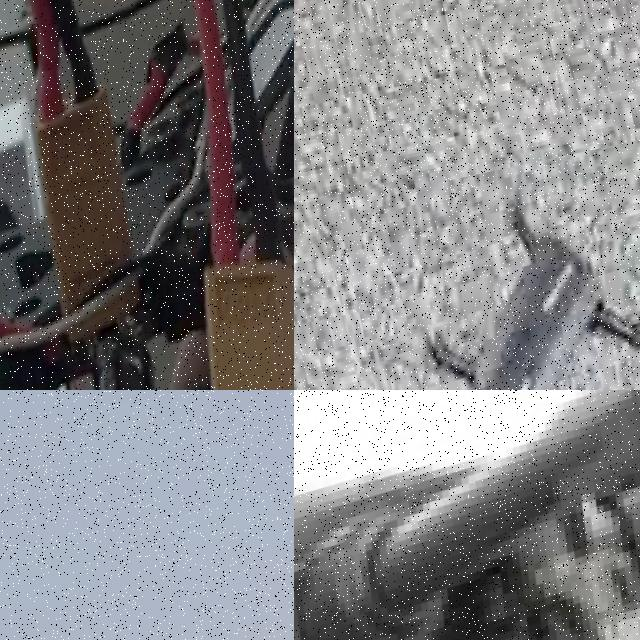drone: (0, 0, 294, 390), (294, 390, 640, 640), (380, 137, 640, 390)
